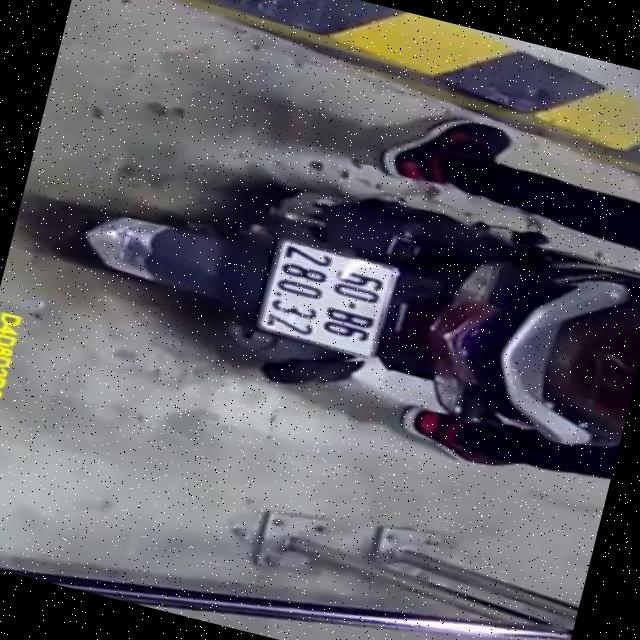license_plate: (246, 232, 402, 360)
